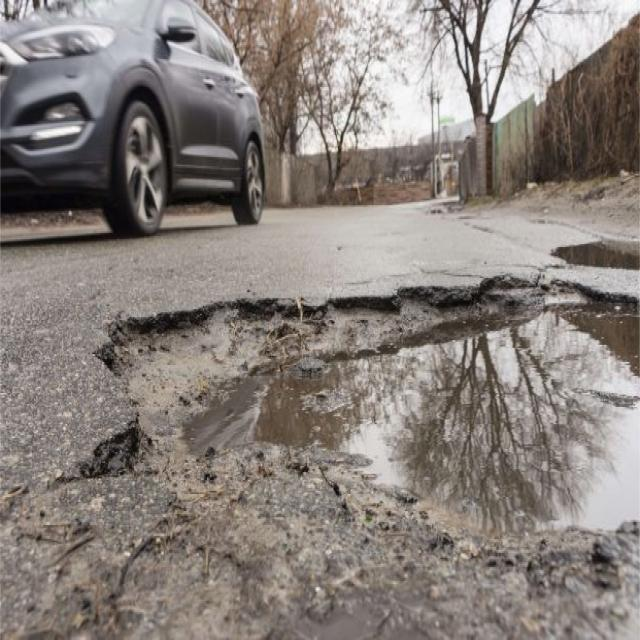Pothole: (87, 285, 640, 558)
